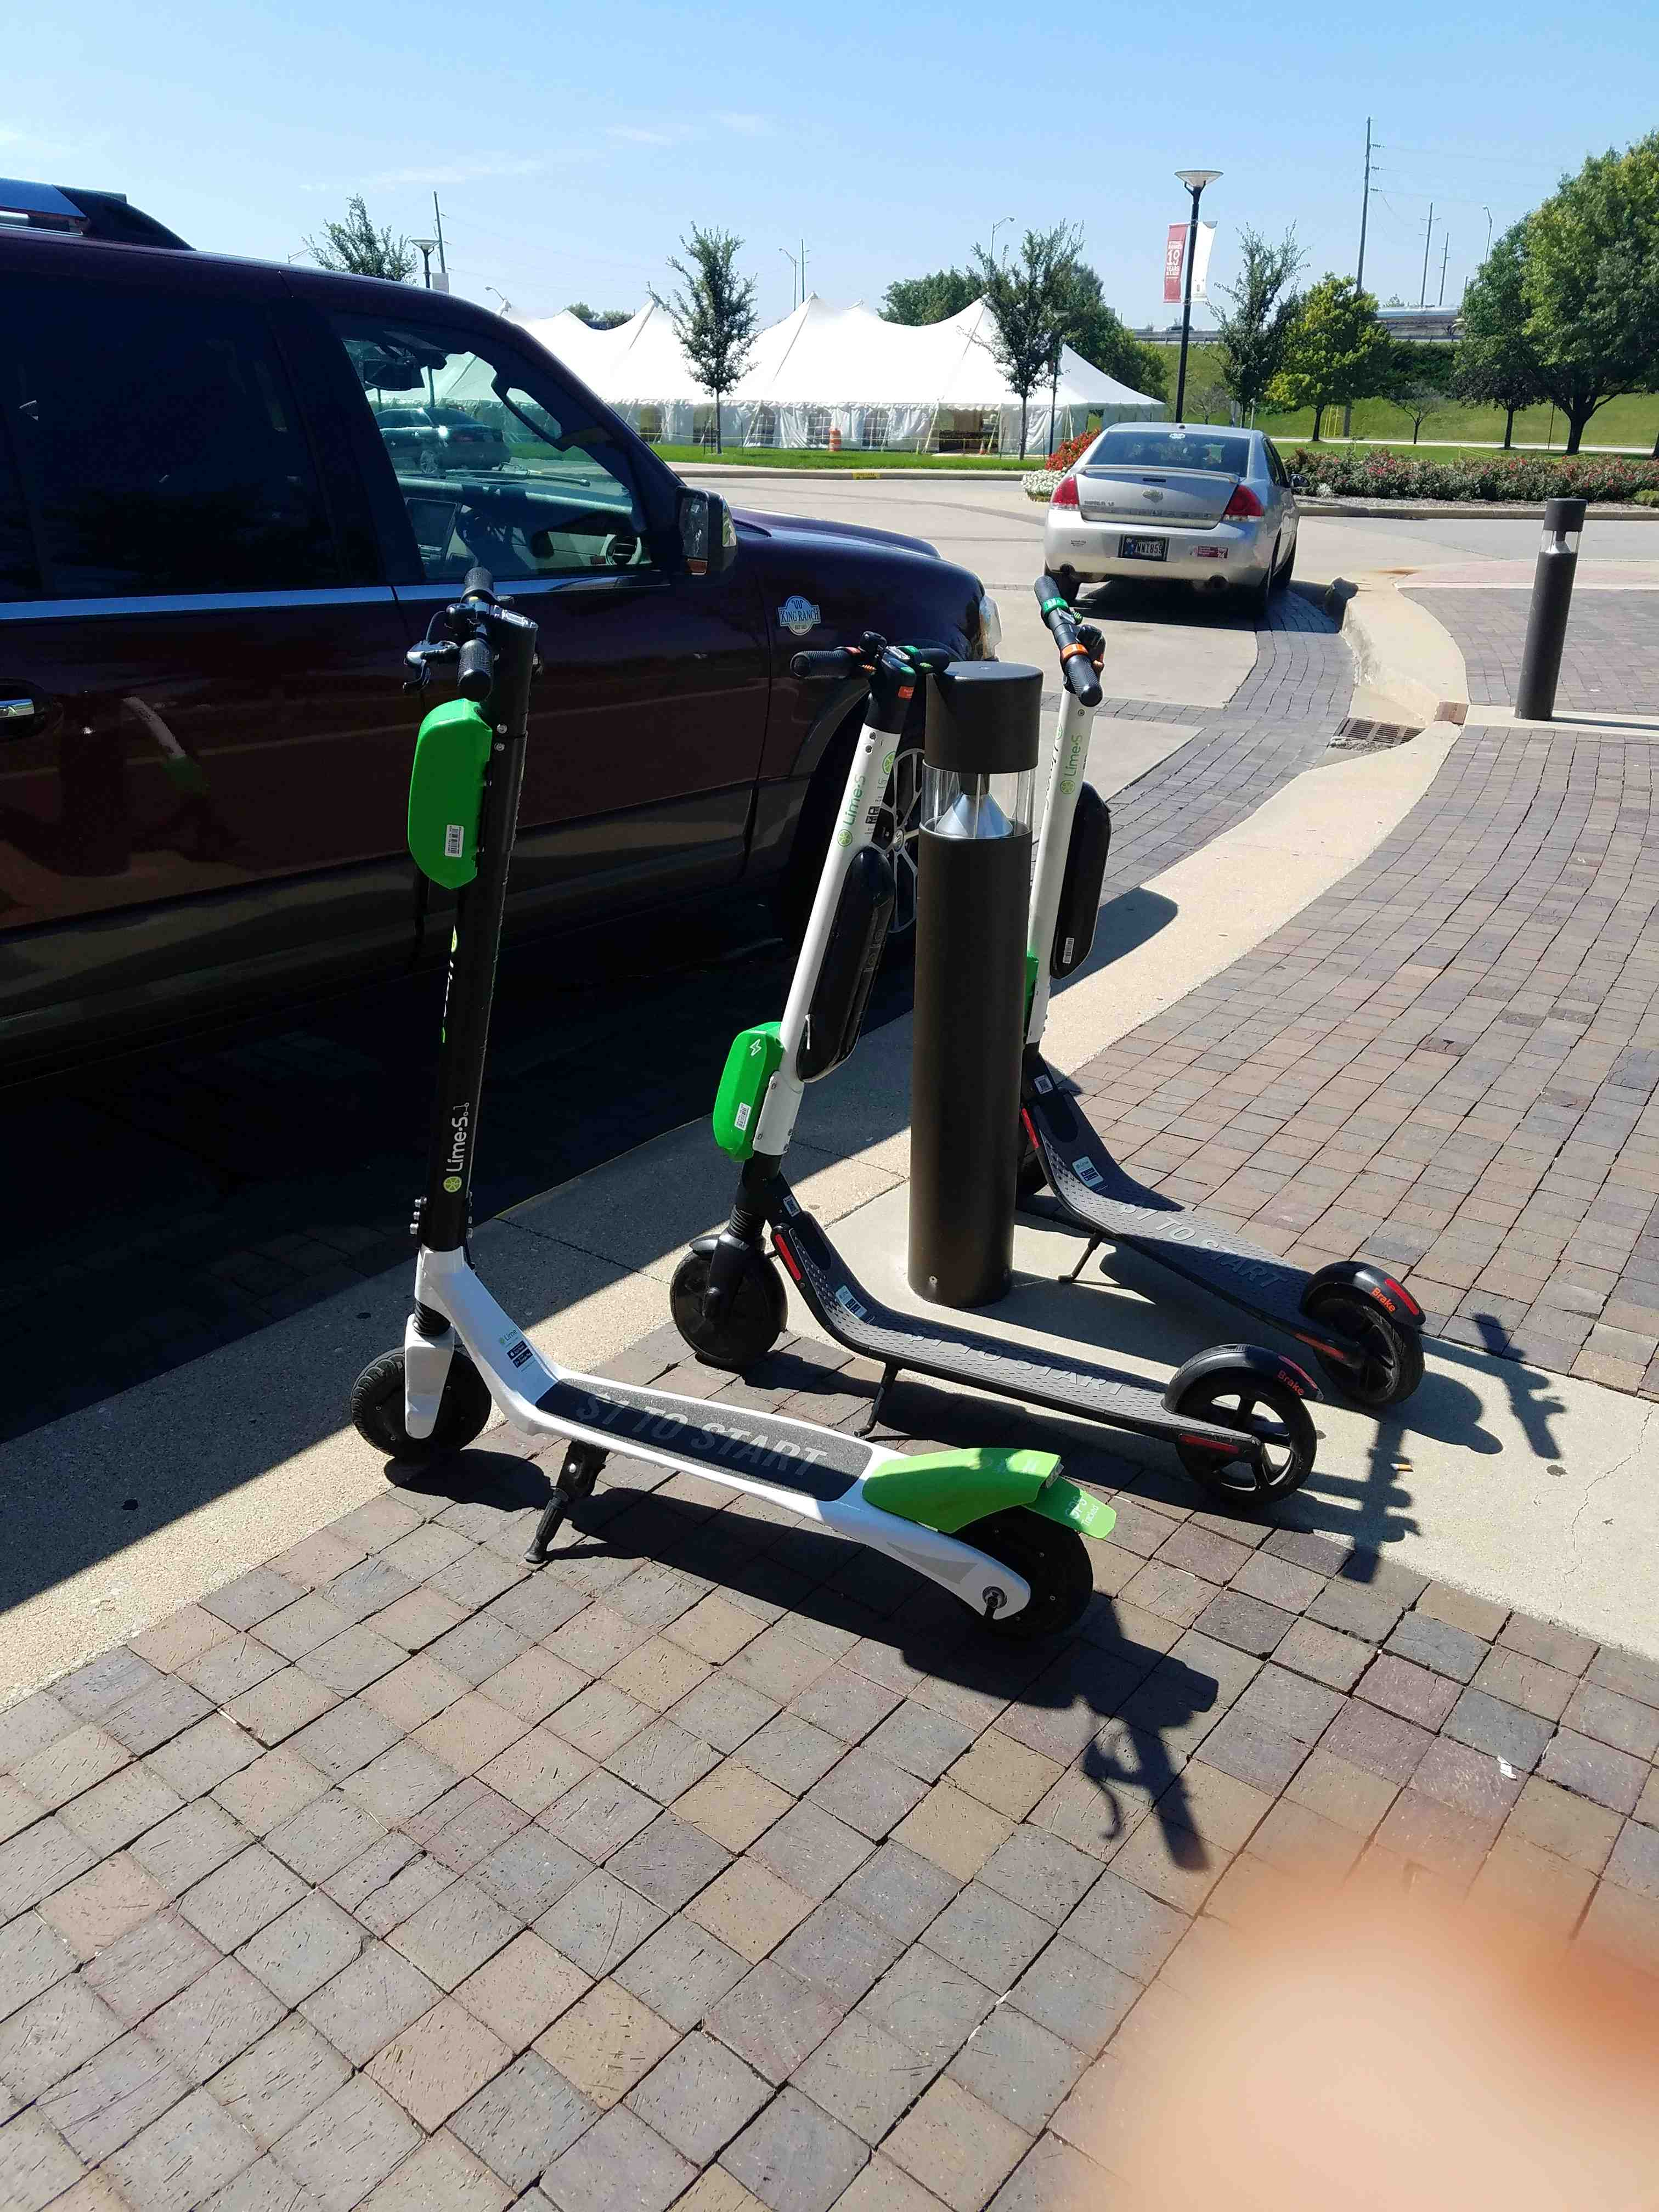scooter: (321, 526, 1162, 1601), (622, 578, 1432, 1527)
